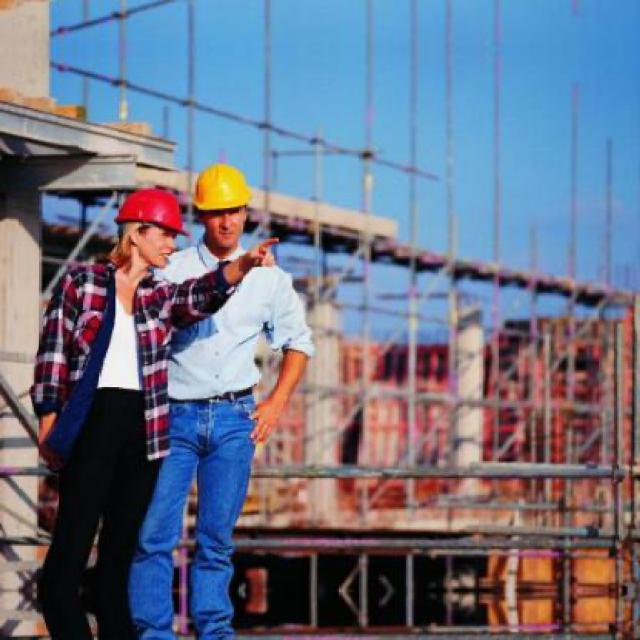con casco: (174, 153, 295, 265), (104, 172, 190, 270)
